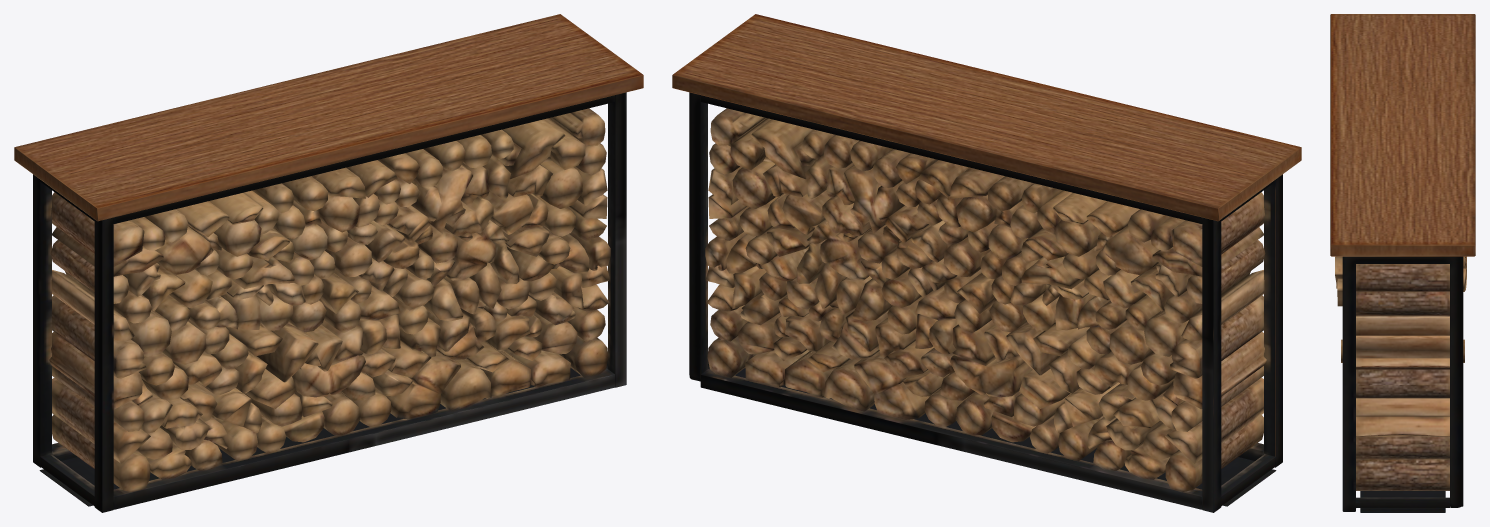
File: bbqsmith_firewood_counter.glb
3 views of the same model, side by side, from view 1: azimuth 30°, elevation 25°; view 2: azimuth 150°, elevation 25°; view 3: azimuth 270°, elevation 25° (orthographic). The views are drawn at different scales.
Visible parts, largest first — view 1: tripo_node_4d66920b-acce-4890-ba1a-4843911c2cda; view 2: tripo_node_4d66920b-acce-4890-ba1a-4843911c2cda; view 3: tripo_node_4d66920b-acce-4890-ba1a-4843911c2cda.
Part boxes in pixels (bbox=[...]): tripo_node_4d66920b-acce-4890-ba1a-4843911c2cda: bbox=[14, 14, 643, 512]; tripo_node_4d66920b-acce-4890-ba1a-4843911c2cda: bbox=[672, 14, 1301, 512]; tripo_node_4d66920b-acce-4890-ba1a-4843911c2cda: bbox=[1330, 14, 1475, 512].
Bounding box in the file's own units: 0.9995 × 0.5474 × 0.2651.
Materials: 1 (1 with a texture image).
